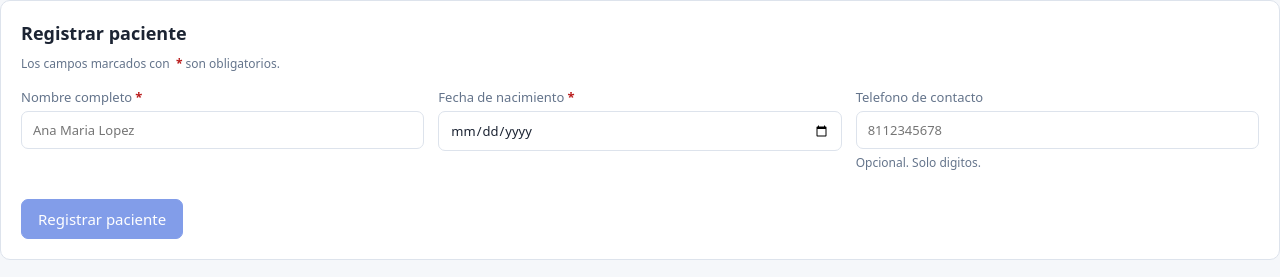
PatientForm › rechaza numeros en el nombre
Type "Ana123" into the field labelled "Nombre completo*" at point(223, 130), box x1=21 y1=111 x2=424 y2=149
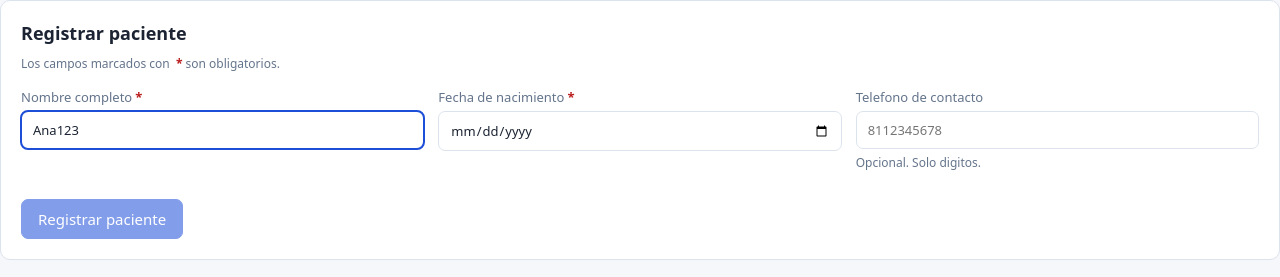
Press Tab
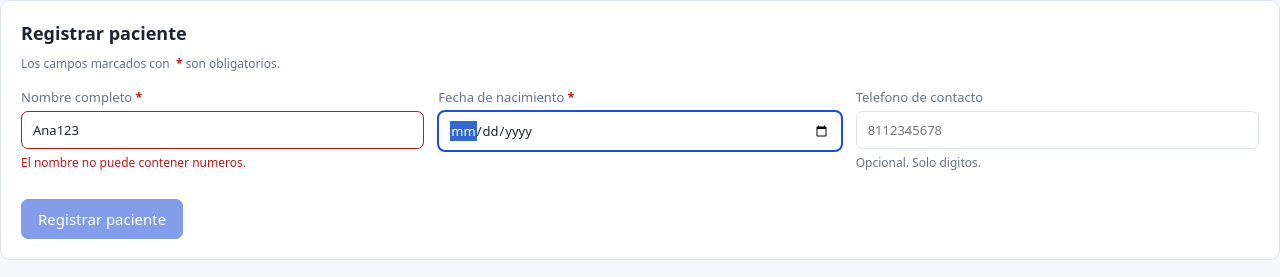
Expected: the text "El nombre no puede contener numeros." is shown, x1=21 y1=154 x2=246 y2=171
